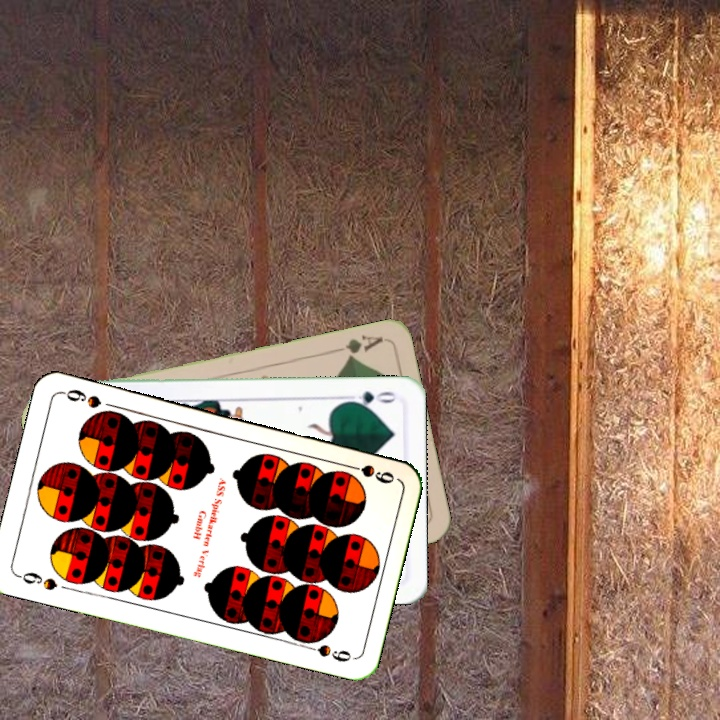GA: (327, 331, 386, 363)
GO: (340, 387, 399, 410)
S9: (339, 459, 397, 486), (13, 568, 60, 593)
